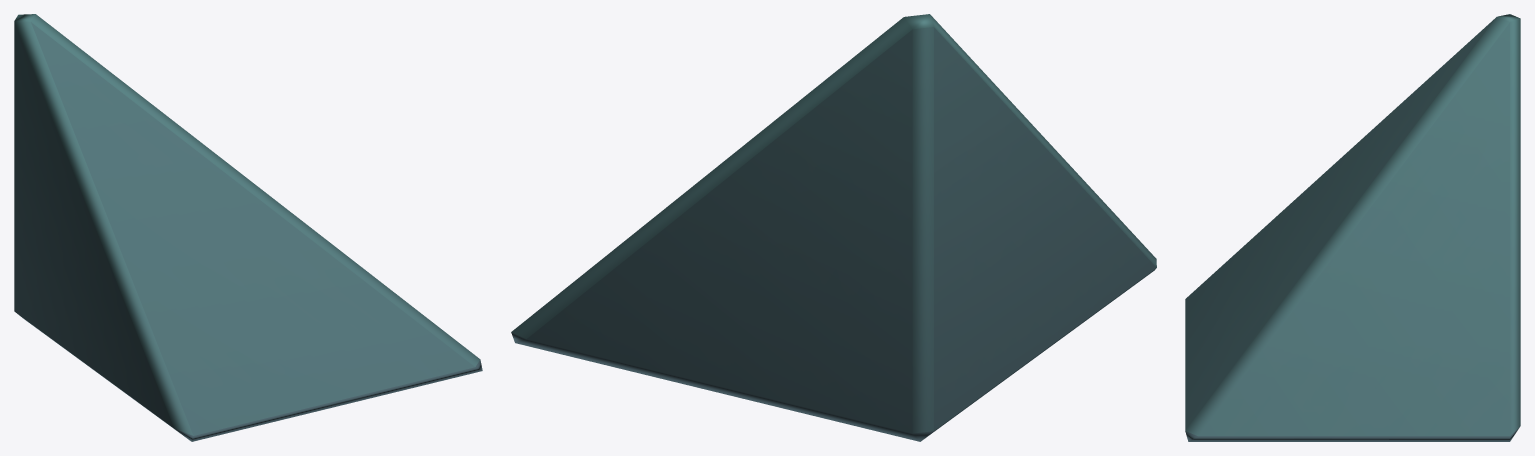
Rendered from ramp_convex_hue_2.fbx.
3 renders of one model, left to right at view 1: azimuth 30°, elevation 25°; view 2: azimuth 150°, elevation 25°; view 3: azimuth 270°, elevation 25°, orthographic. The views are drawn at different scales.
Visible parts, largest first — view 1: ramp_convex_hue_2; view 2: ramp_convex_hue_2; view 3: ramp_convex_hue_2.
Boxes of the visible parts, box(x1,y1,x2,y2) form: ramp_convex_hue_2: box(14, 14, 482, 441); ramp_convex_hue_2: box(511, 14, 1156, 441); ramp_convex_hue_2: box(1185, 14, 1520, 441).
Size of the model in its own units: 97.79 by 93.05 by 97.79.
